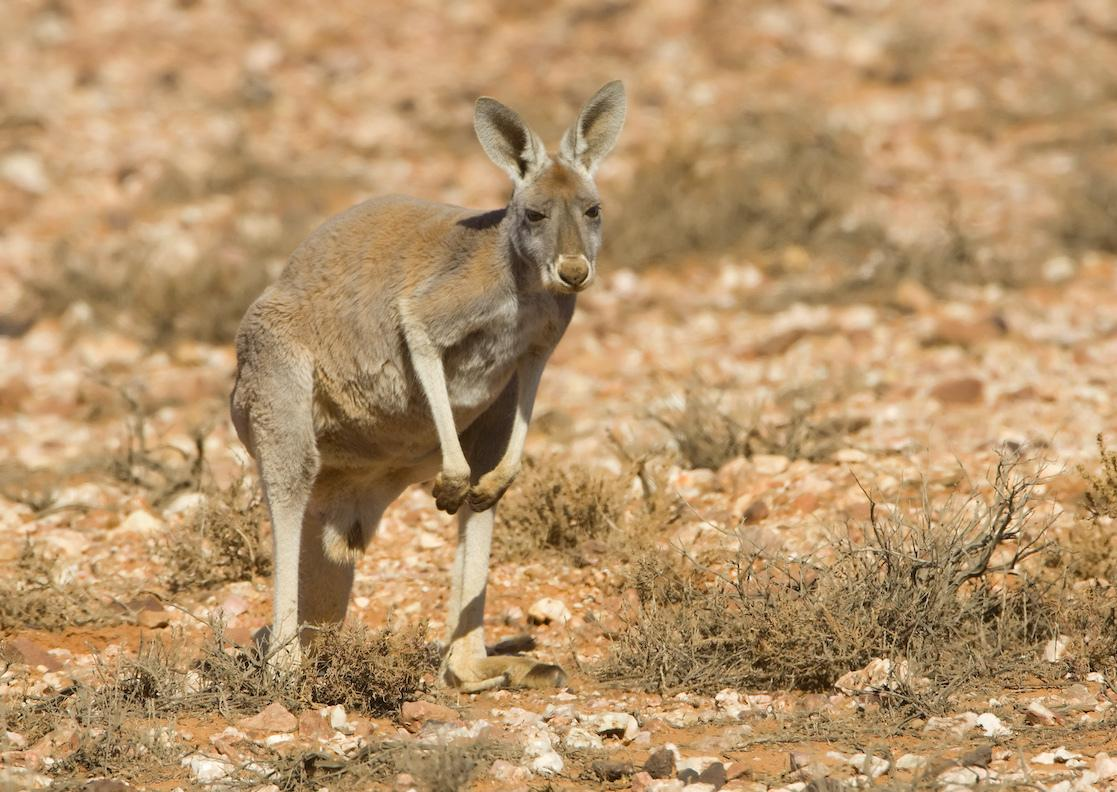Red kangaroo: (230, 73, 629, 693)
